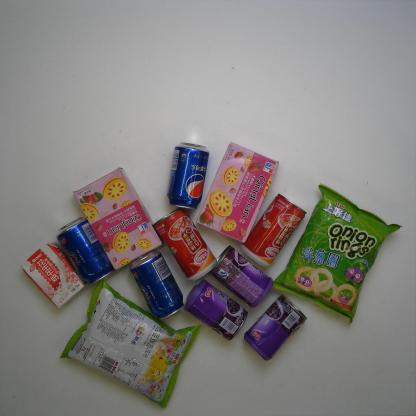Canned Food: (150, 206, 219, 283), (240, 192, 307, 270), (241, 292, 309, 363), (181, 277, 249, 343), (208, 243, 274, 309)
Dessert: (70, 166, 164, 272), (194, 139, 281, 246)
Drink: (54, 214, 115, 286), (128, 249, 186, 322), (164, 139, 210, 211)
Milk: (19, 240, 88, 310)
Puffed Food: (272, 180, 404, 327), (58, 278, 204, 410)
